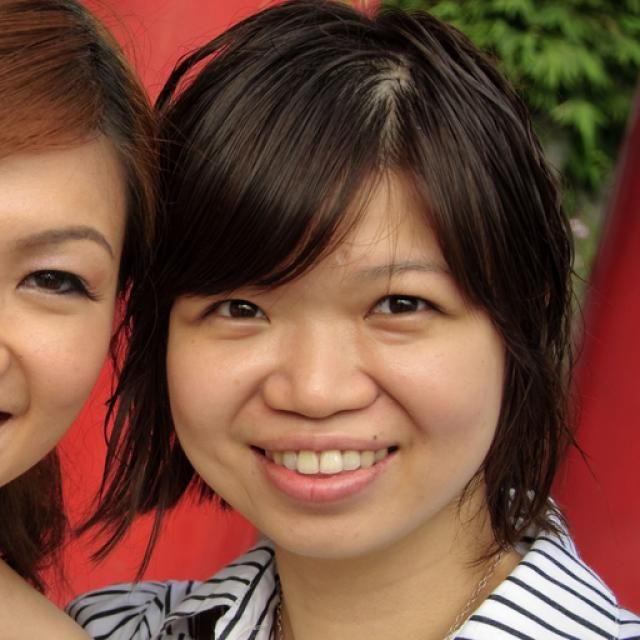happy: (165, 150, 506, 560), (0, 121, 126, 490)
